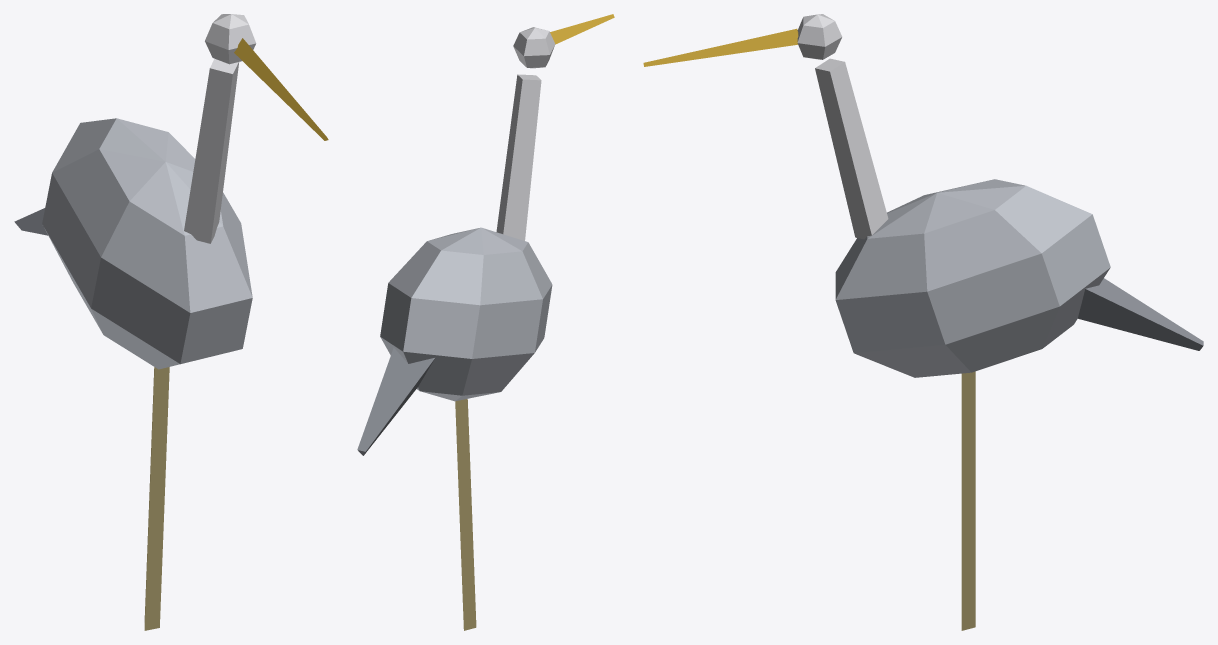
File: br_x_heron.glb
The picture shows the model from 3 angles, left to right: view 1: azimuth 30°, elevation 25°; view 2: azimuth 150°, elevation 25°; view 3: azimuth 270°, elevation 25°; orthographic projection. The views are drawn at different scales.
Parts seen in each view (by area): view 1: br_x_heron; view 2: br_x_heron; view 3: br_x_heron.
Part boxes in pixels (bbox=[...]): br_x_heron: bbox=[14, 14, 328, 630]; br_x_heron: bbox=[357, 14, 614, 630]; br_x_heron: bbox=[643, 14, 1203, 630].
Bounding box in the file's own units: 0.2374 × 1.09 × 0.903.
